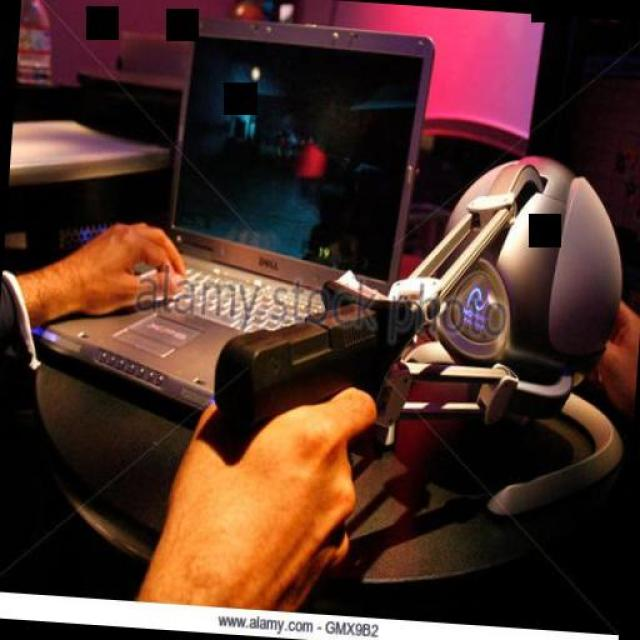gun: (204, 254, 410, 494)
